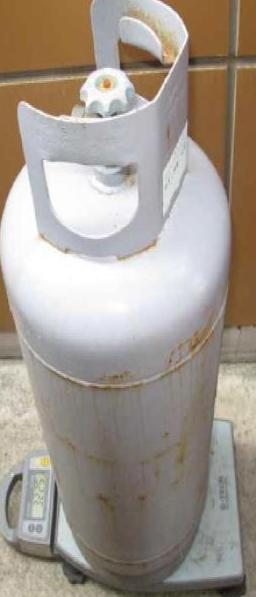cylinder: (0, 1, 256, 597)
